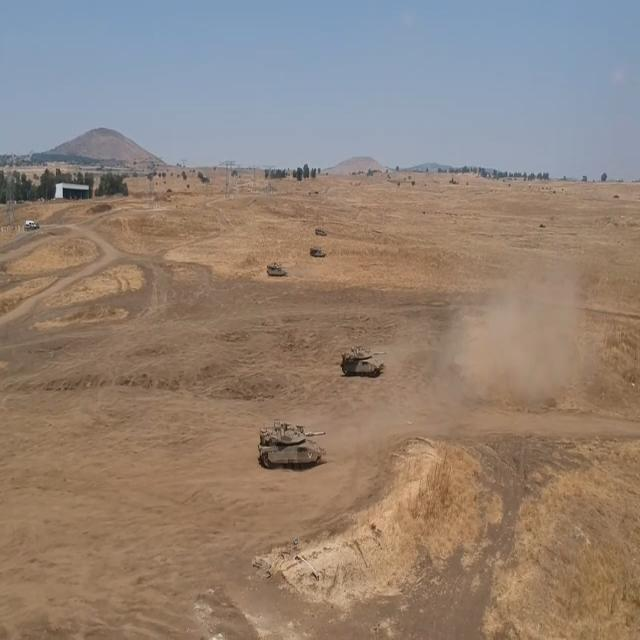tank: (257, 418, 334, 469), (342, 346, 388, 376), (268, 257, 288, 283), (307, 245, 326, 259), (316, 223, 328, 242)
